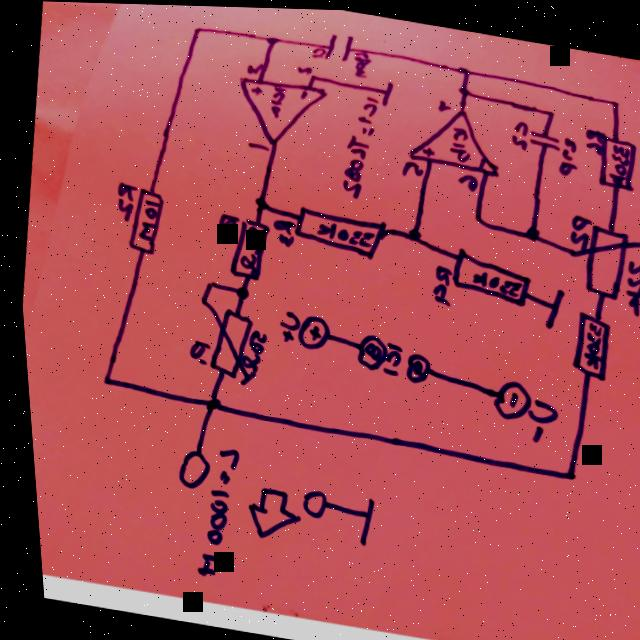capacitor: (320, 29, 354, 62), (524, 126, 556, 147)
ground: (533, 281, 566, 330), (342, 493, 371, 546), (375, 77, 395, 107)
junction: (518, 222, 537, 238), (401, 222, 418, 239), (196, 394, 214, 410), (247, 193, 264, 209), (227, 283, 244, 299), (554, 464, 571, 480), (452, 81, 469, 96), (454, 61, 470, 74), (191, 22, 205, 35), (263, 31, 277, 44), (561, 245, 575, 258), (606, 92, 619, 105), (542, 104, 556, 116), (467, 209, 481, 221), (200, 277, 212, 290), (191, 295, 203, 307), (94, 374, 105, 386), (306, 71, 317, 81)
resistor: (573, 217, 640, 302), (288, 202, 385, 260), (442, 243, 531, 306), (197, 303, 258, 386), (561, 306, 610, 379), (220, 214, 269, 282), (119, 185, 165, 256), (590, 130, 638, 189)
terminal: (482, 374, 527, 420), (164, 446, 205, 493), (286, 311, 327, 352), (347, 328, 382, 370), (288, 485, 322, 518), (396, 349, 426, 383)
text: (175, 441, 242, 581), (331, 90, 382, 200), (514, 392, 557, 443), (310, 217, 371, 247), (231, 223, 264, 274), (614, 255, 640, 316), (464, 266, 519, 294), (231, 326, 263, 374), (574, 317, 604, 368), (422, 260, 453, 306), (602, 138, 632, 185), (130, 197, 158, 242), (109, 180, 138, 222), (551, 131, 578, 174), (562, 210, 589, 251), (373, 338, 398, 376), (270, 307, 297, 342), (578, 123, 608, 154), (265, 215, 294, 247), (210, 210, 238, 243), (504, 116, 529, 149), (348, 45, 372, 77), (263, 82, 284, 118), (180, 335, 205, 365), (355, 338, 379, 362), (397, 156, 422, 178), (452, 168, 476, 190), (241, 58, 264, 76), (401, 356, 418, 377), (243, 139, 266, 152), (432, 95, 451, 110), (308, 44, 325, 58), (294, 62, 310, 74)
